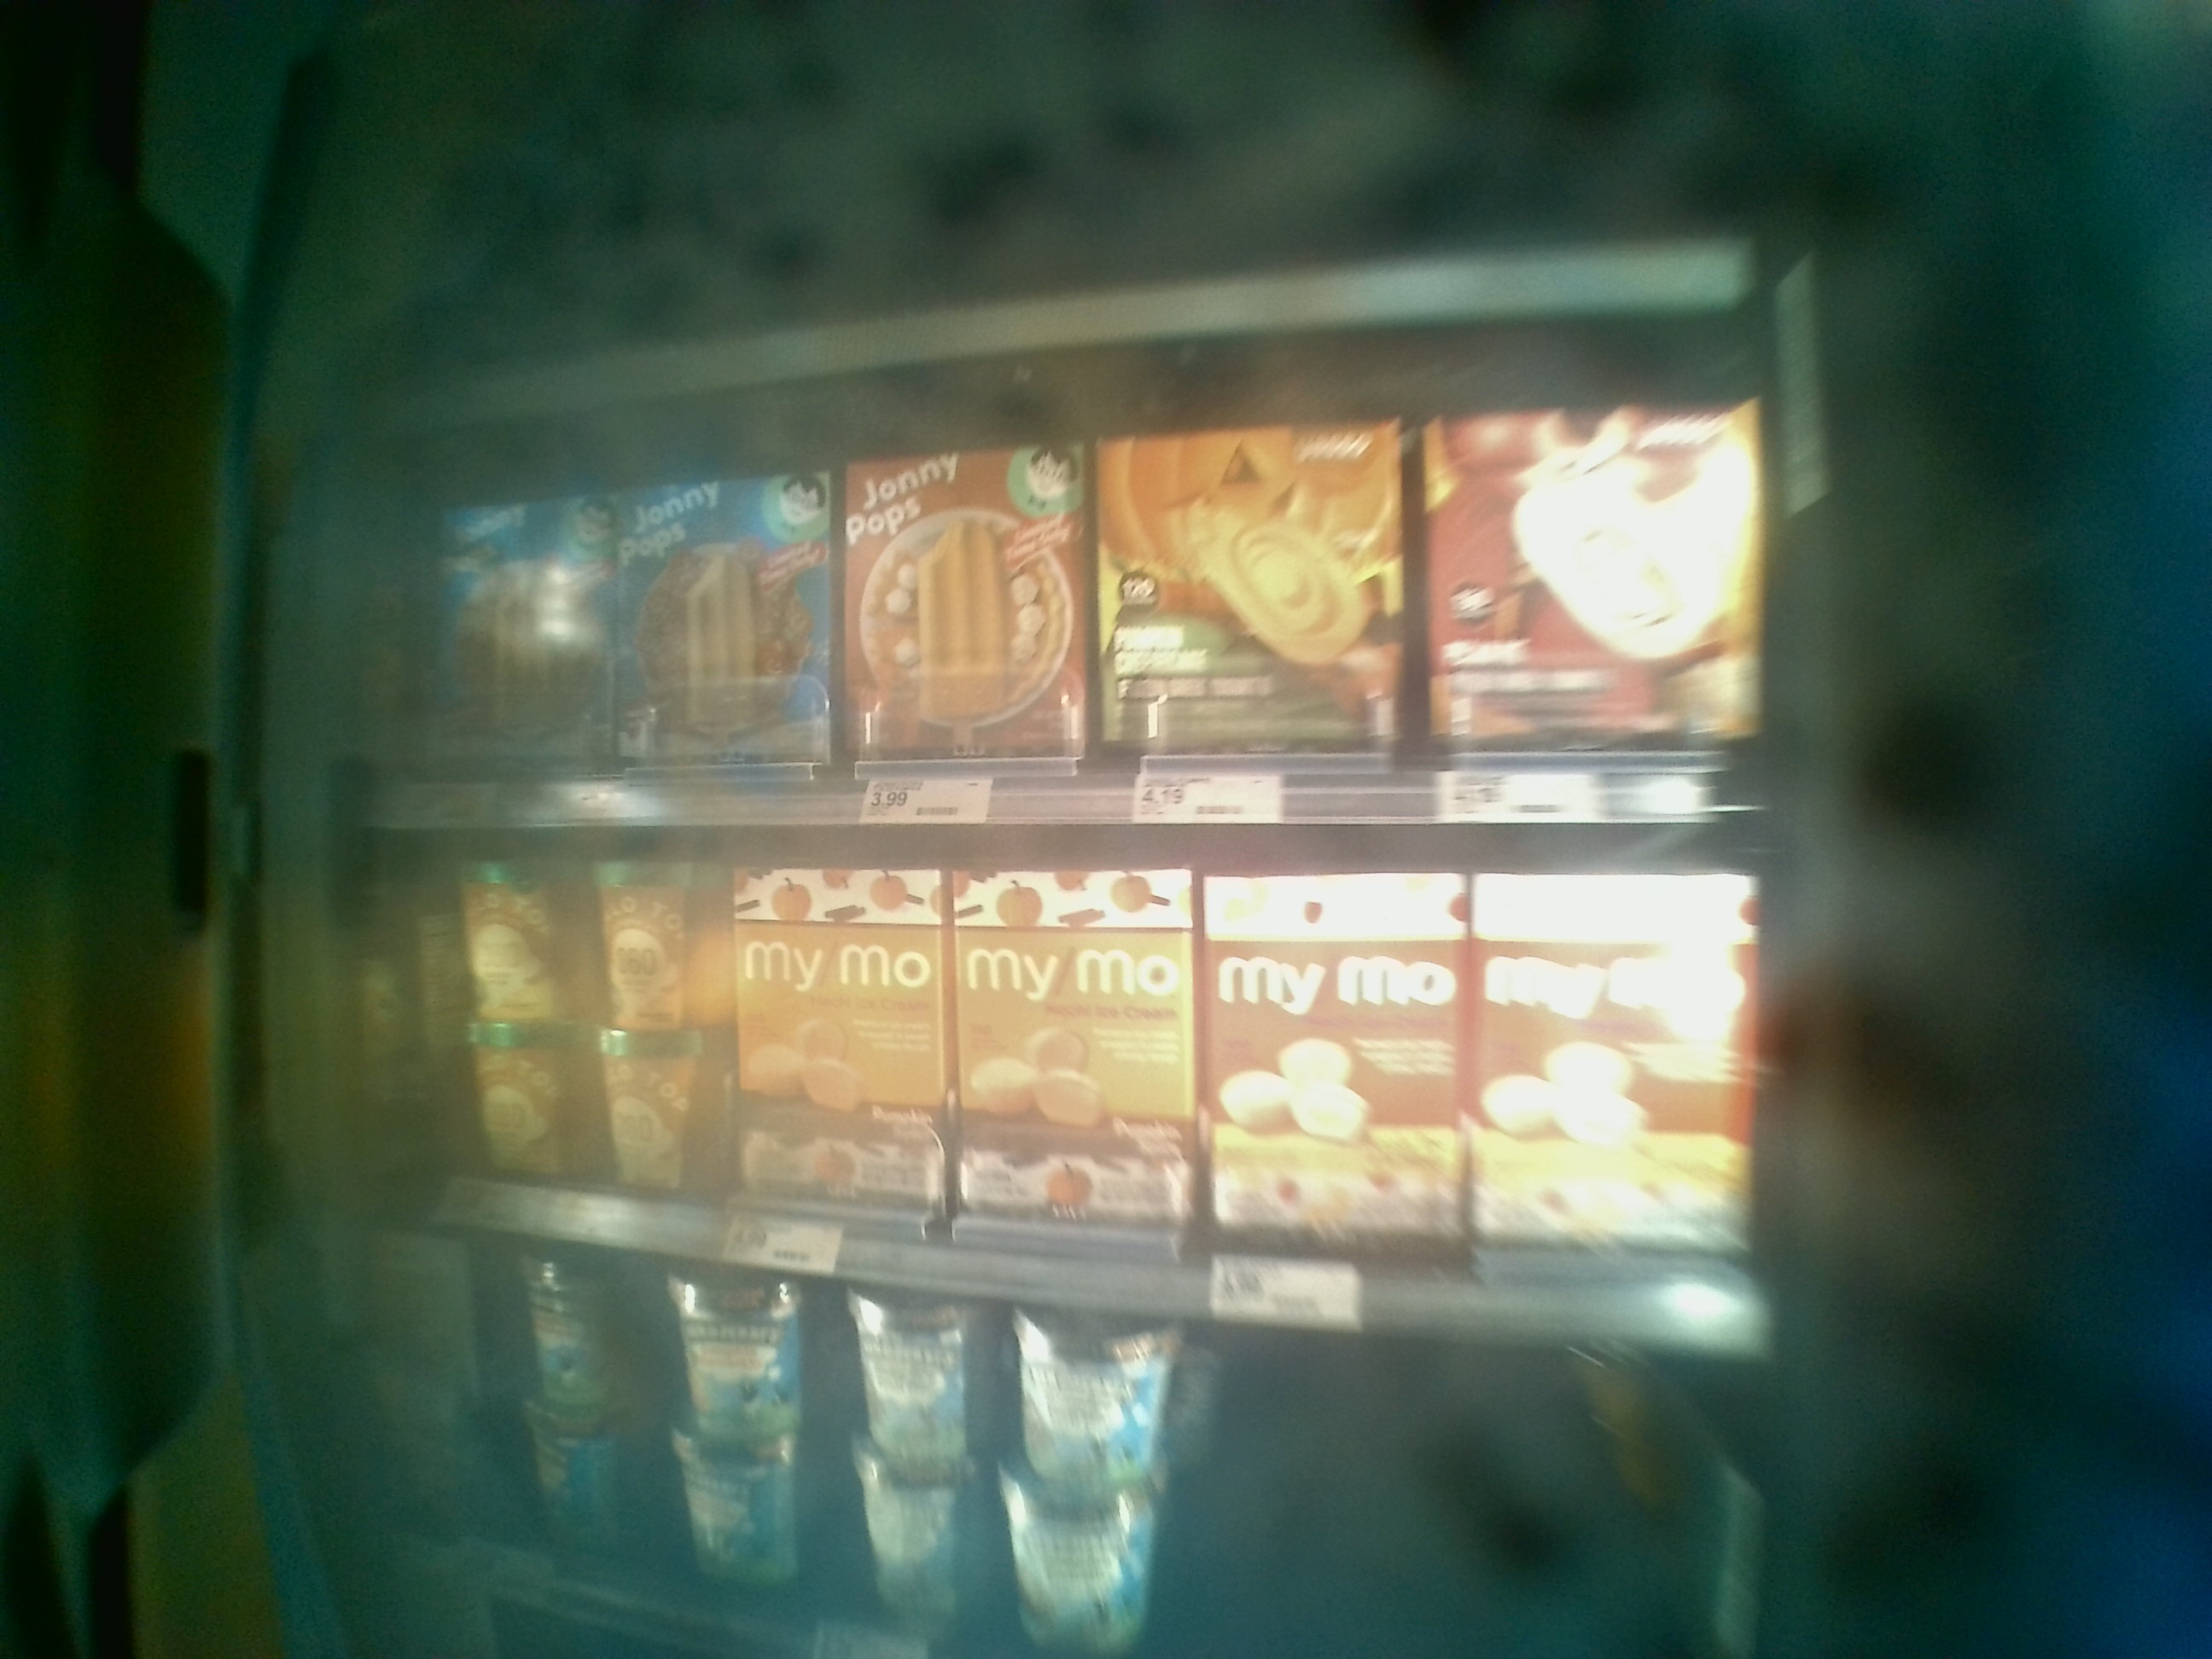shelf: (327, 781, 1757, 1316), (333, 418, 1754, 812)
